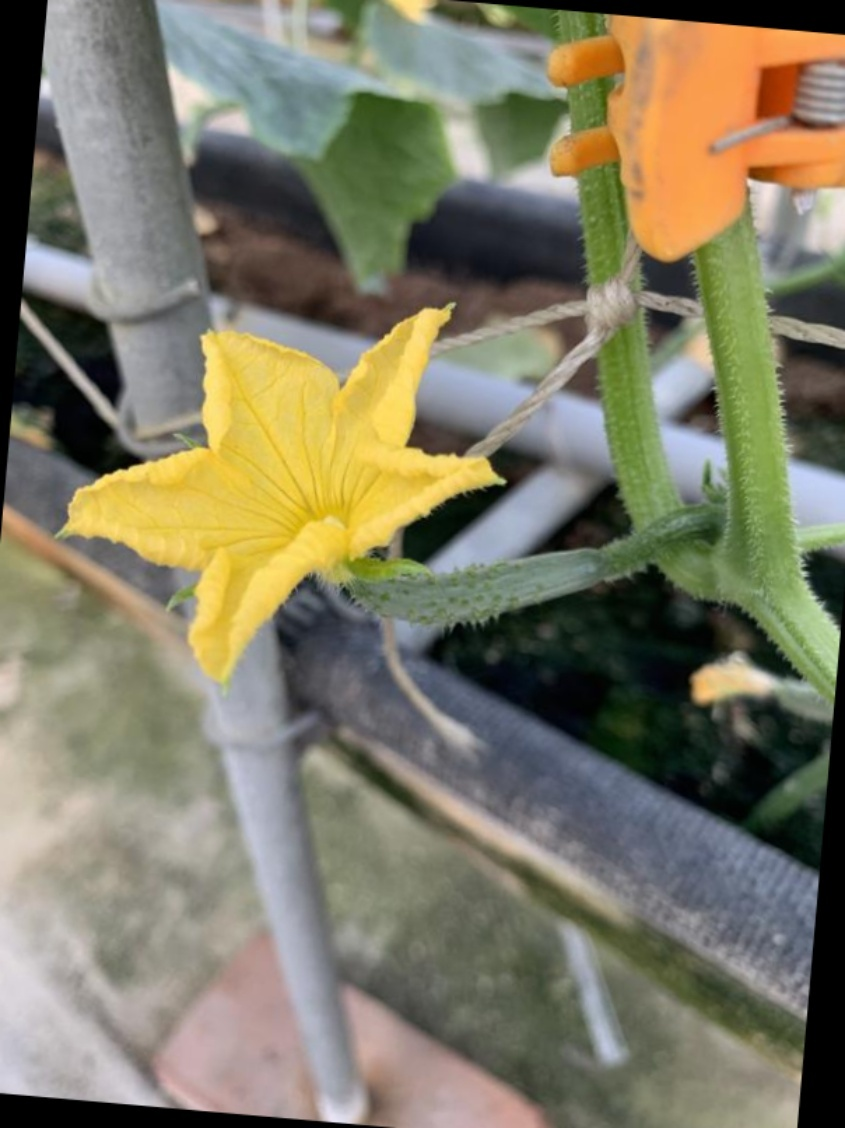flowering: (47, 300, 608, 681)
